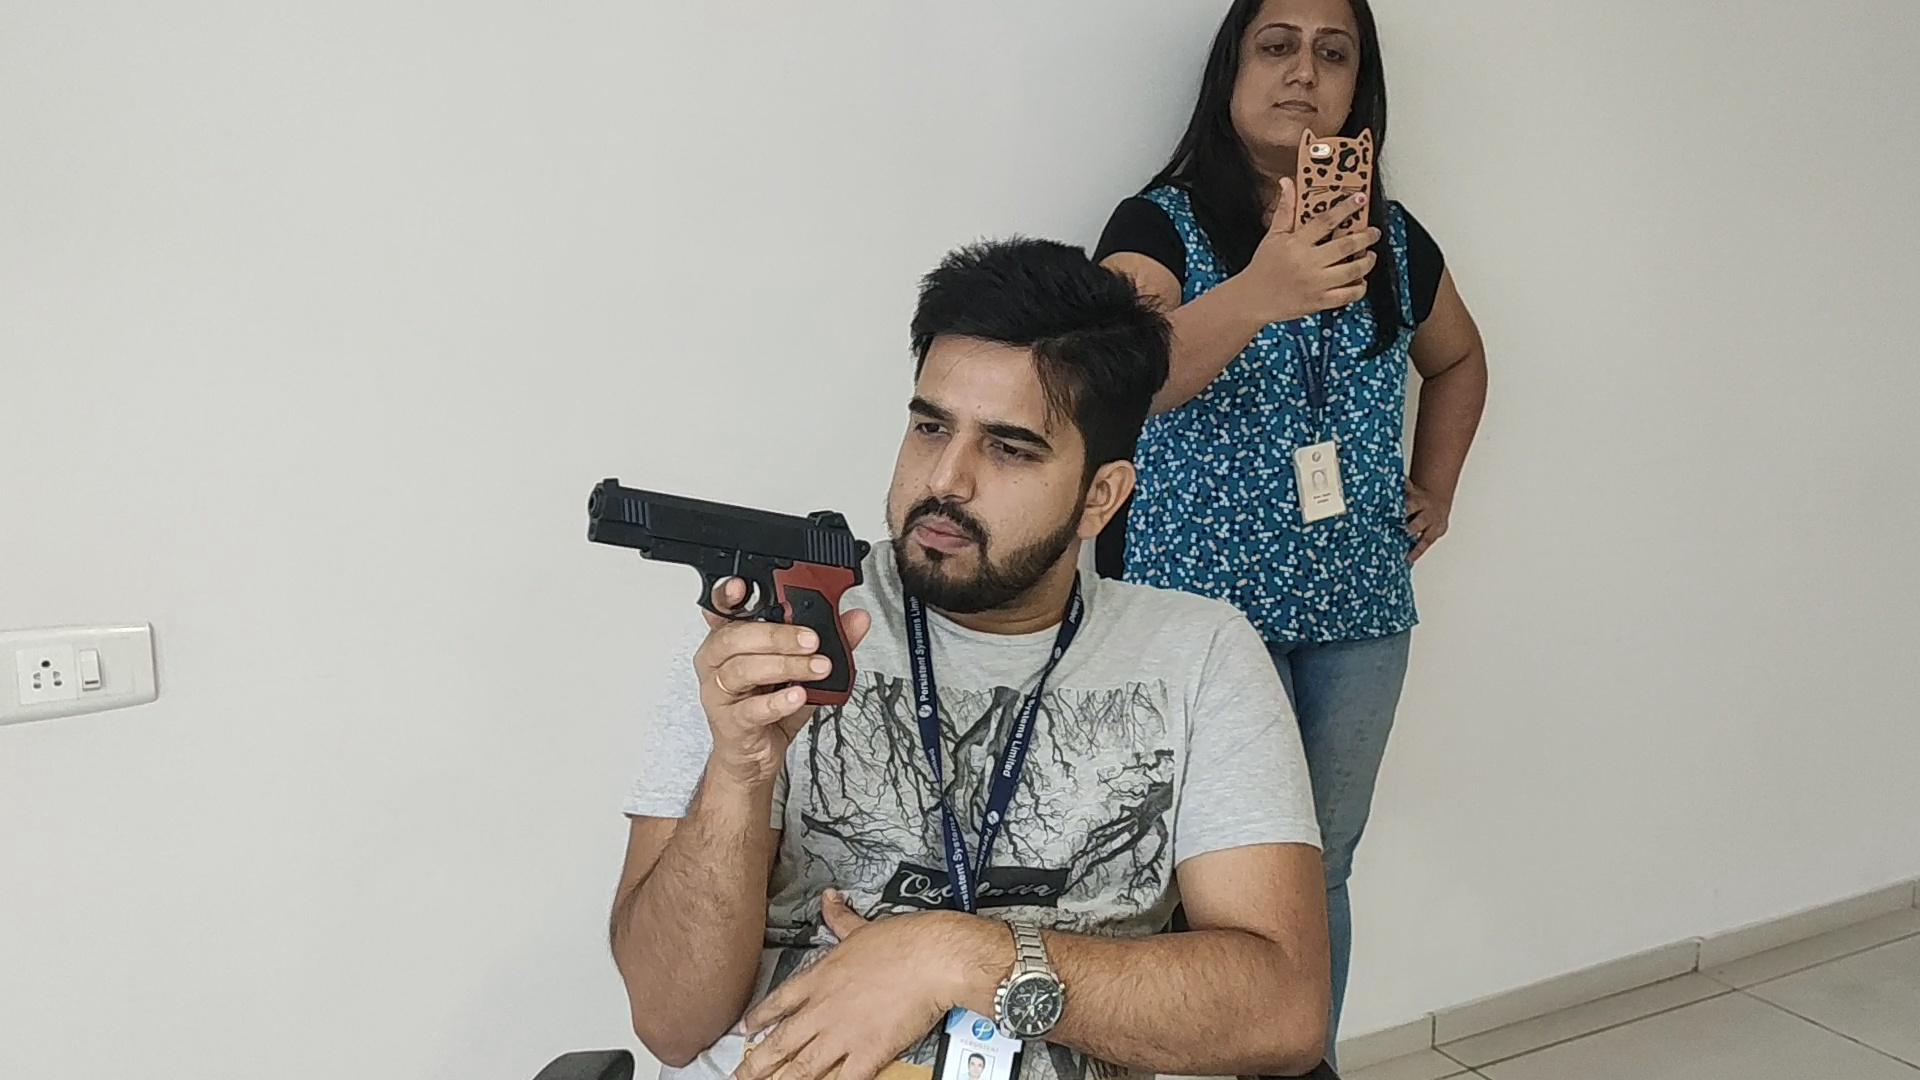gun: (585, 477, 872, 608)
